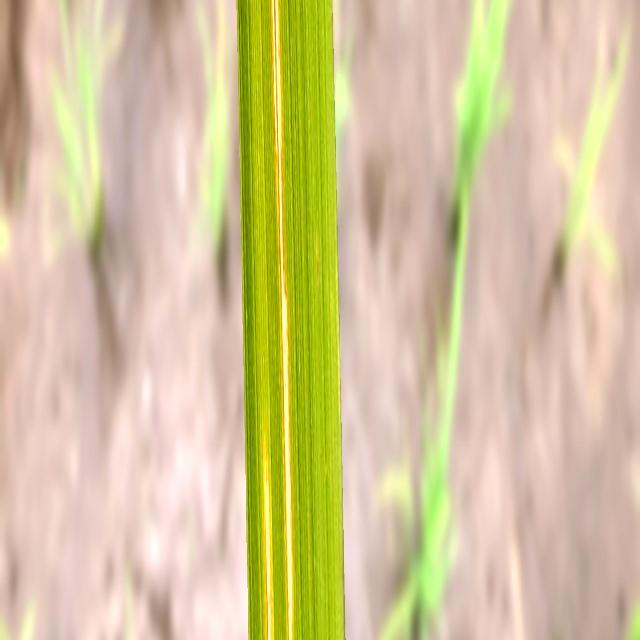BLS: (271, 0, 293, 640), (281, 267, 292, 640), (271, 0, 282, 254), (263, 459, 274, 640)
